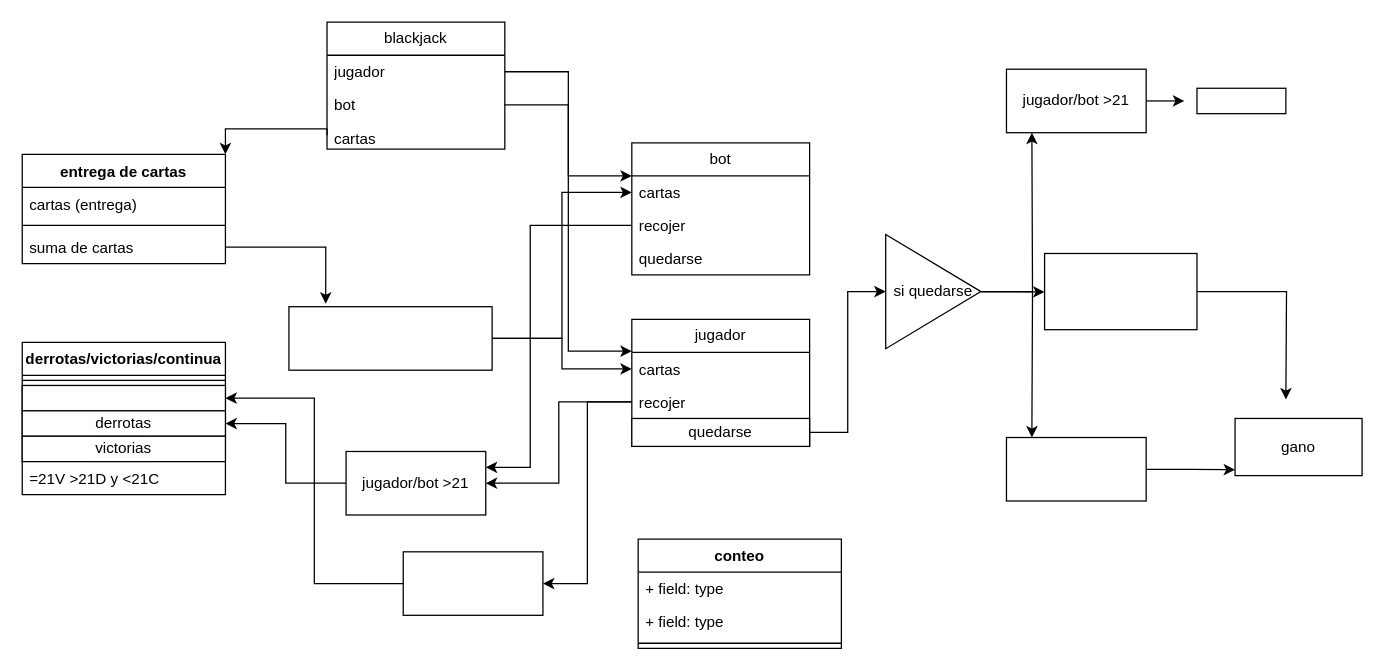
This 1384x671 diagram has some shape labels left out. Here are the shapes that lost their labels. From the top down, the centre of each, then its label:
At pixel 1241 100: "pierde".
At pixel 1120 291: "bot > jugador & bot<=21".
At pixel 390 337: "metod: + num random (1-12)".
At pixel 123 397: "continua".
At pixel 1075 468: "jugador > bot & jugador <=21".
At pixel 472 583: "jugador/bot <21".
